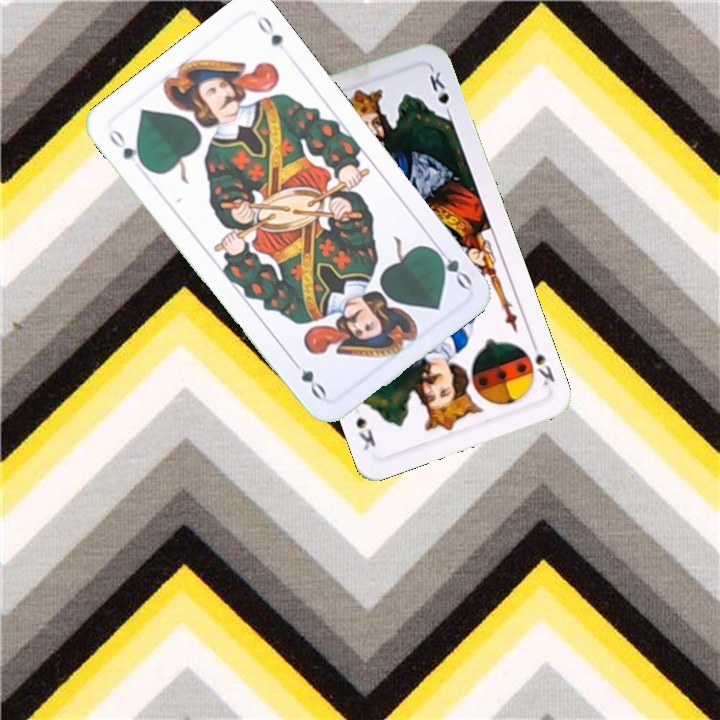GO: (427, 239, 475, 292), (104, 124, 150, 172)
SK: (526, 335, 558, 388)
